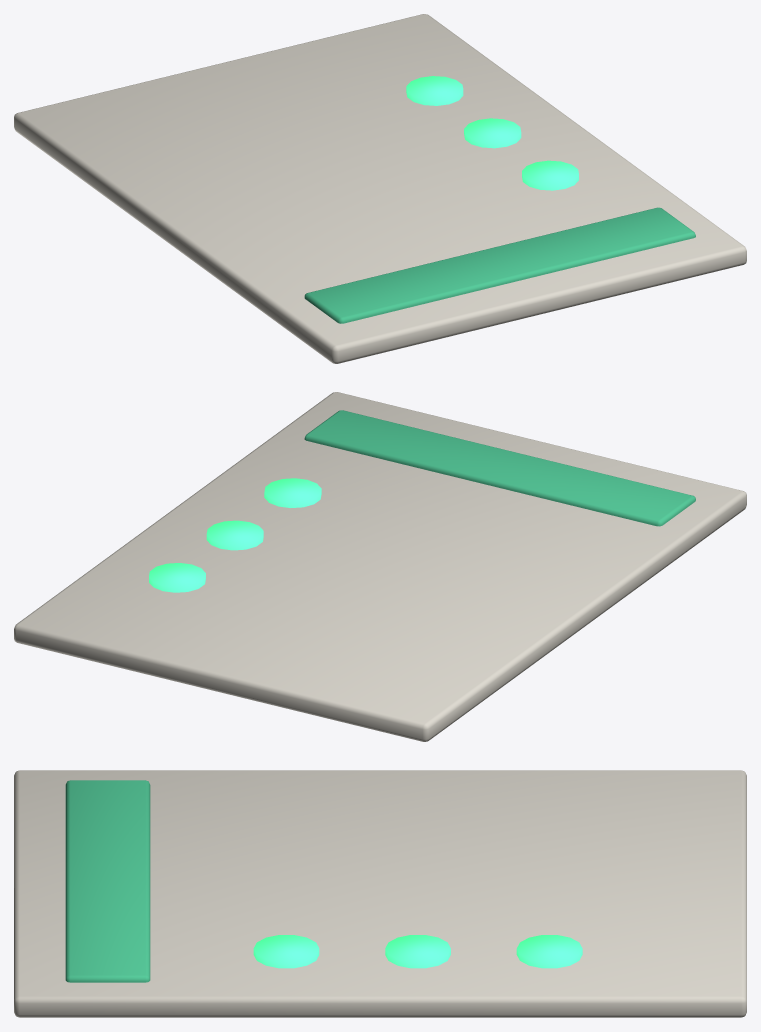
File: Doc_TestReport.fbx
The picture shows the model from 3 angles, top to bottom: view 1: azimuth 30°, elevation 25°; view 2: azimuth 150°, elevation 25°; view 3: azimuth 270°, elevation 25°; orthographic projection. The views are drawn at different scales.
Visible parts, largest first — view 1: TestReport_Sheet, TestReport_Header, TestReport_CheckDot_3, TestReport_CheckDot_2, TestReport_CheckDot_1; view 2: TestReport_Sheet, TestReport_Header, TestReport_CheckDot_2, TestReport_CheckDot_1, TestReport_CheckDot_3; view 3: TestReport_Sheet, TestReport_Header, TestReport_CheckDot_3, TestReport_CheckDot_1, TestReport_CheckDot_2.
Part boxes in pixels (x1=…): TestReport_Sheet: x1=14, y1=14, x2=746, y2=363; TestReport_Header: x1=304, y1=207, x2=695, y2=323; TestReport_CheckDot_3: x1=406, y1=76, x2=463, y2=105; TestReport_CheckDot_2: x1=464, y1=118, x2=521, y2=148; TestReport_CheckDot_1: x1=522, y1=160, x2=578, y2=190; TestReport_Sheet: x1=14, y1=392, x2=746, y2=741; TestReport_Header: x1=304, y1=410, x2=695, y2=526; TestReport_CheckDot_2: x1=206, y1=520, x2=263, y2=550; TestReport_CheckDot_1: x1=264, y1=478, x2=321, y2=507; TestReport_CheckDot_3: x1=149, y1=563, x2=205, y2=592; TestReport_Sheet: x1=14, y1=770, x2=746, y2=1017; TestReport_Header: x1=65, y1=780, x2=150, y2=982; TestReport_CheckDot_3: x1=516, y1=935, x2=582, y2=968; TestReport_CheckDot_1: x1=253, y1=935, x2=319, y2=968; TestReport_CheckDot_2: x1=385, y1=935, x2=450, y2=968.
Bounding box in the file's own units: 5.8 × 0.33 × 7.8.
